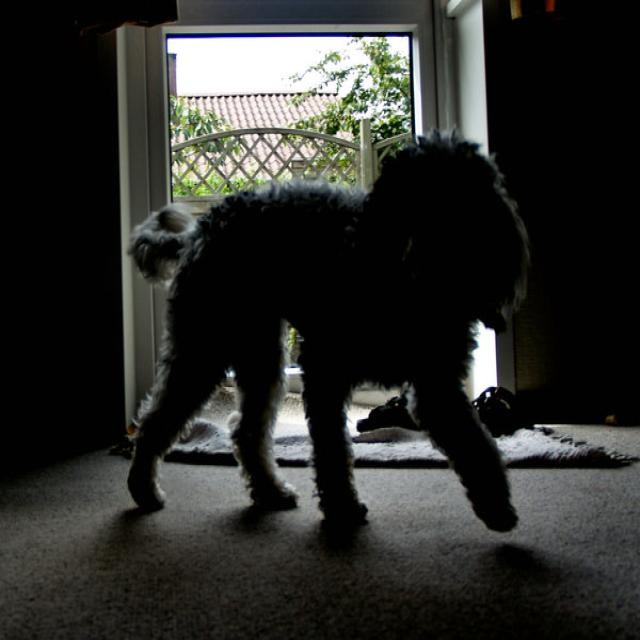Dog: (62, 123, 580, 551)
